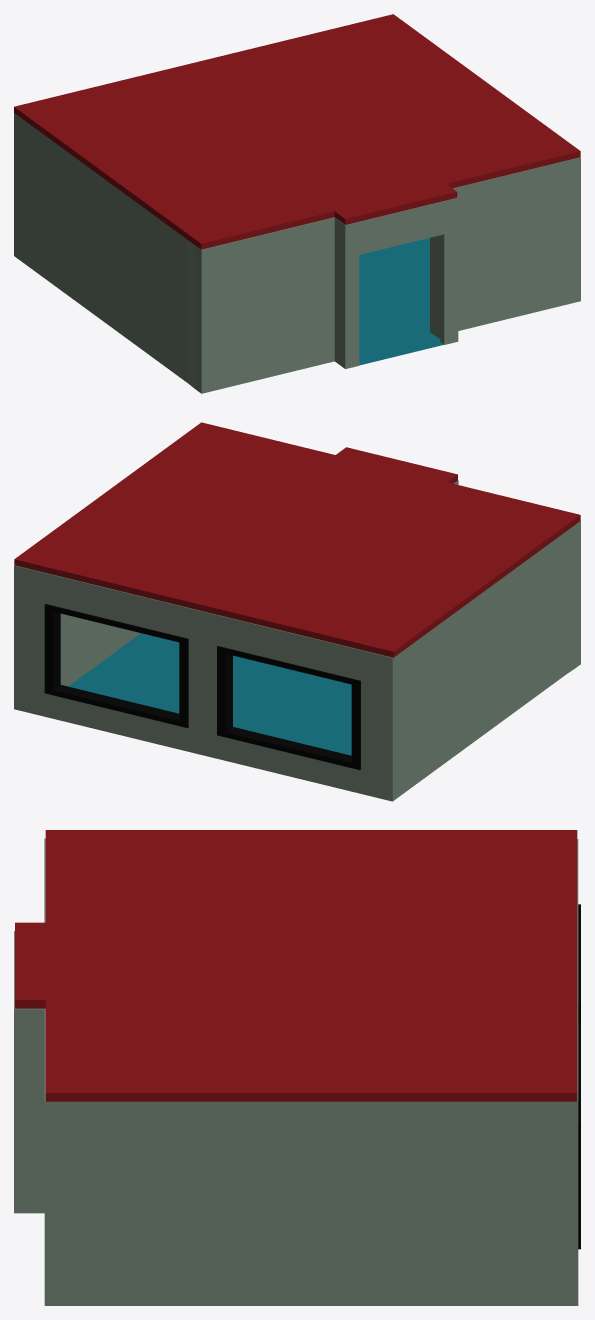
The model's file is Sala.fbx.
3 renders of one model, top to bottom at view 1: azimuth 30°, elevation 25°; view 2: azimuth 150°, elevation 25°; view 3: azimuth 270°, elevation 25°, orthographic. The views are drawn at different scales.
Parts seen in each view (by area): view 1: Roof, Home, Floor; view 2: Roof, Home, Floor, BaseWindow; view 3: Roof, Home, BaseWindow.
Part boxes in pixels (<box>): Roof: <box>14,14,580,249</box>; Home: <box>14,113,580,393</box>; Floor: <box>359,238,443,365</box>; Roof: <box>14,422,580,657</box>; Home: <box>14,480,580,801</box>; Floor: <box>68,633,351,755</box>; BaseWindow: <box>44,604,360,769</box>; Roof: <box>15,830,577,1101</box>; Home: <box>14,838,578,1305</box>; BaseWindow: <box>578,904,580,1249</box>.
Size of the model in its own units: 894 by 337 by 814.
